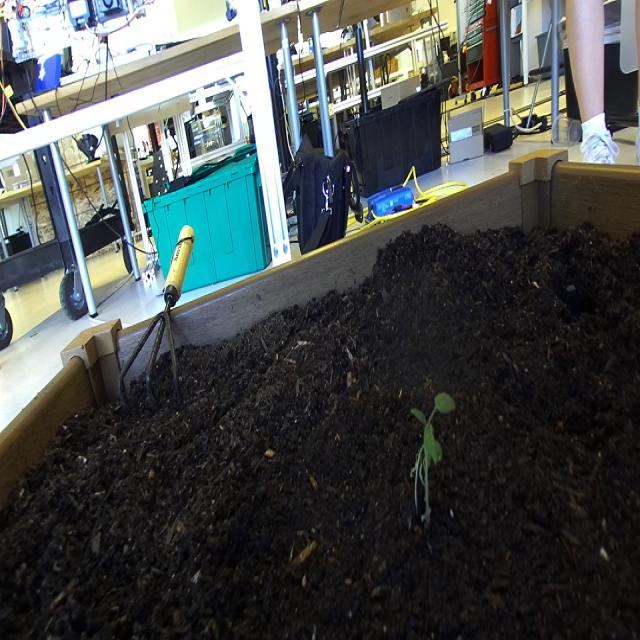Healthy: (408, 386, 458, 519)
Unhealthy: (408, 443, 426, 508)
